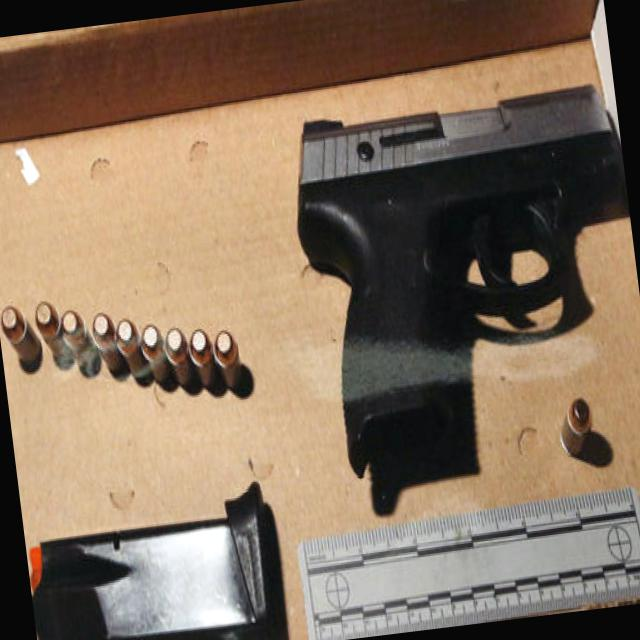handgun: (283, 78, 639, 475)
